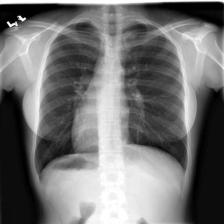normal: (31, 14, 191, 180)
